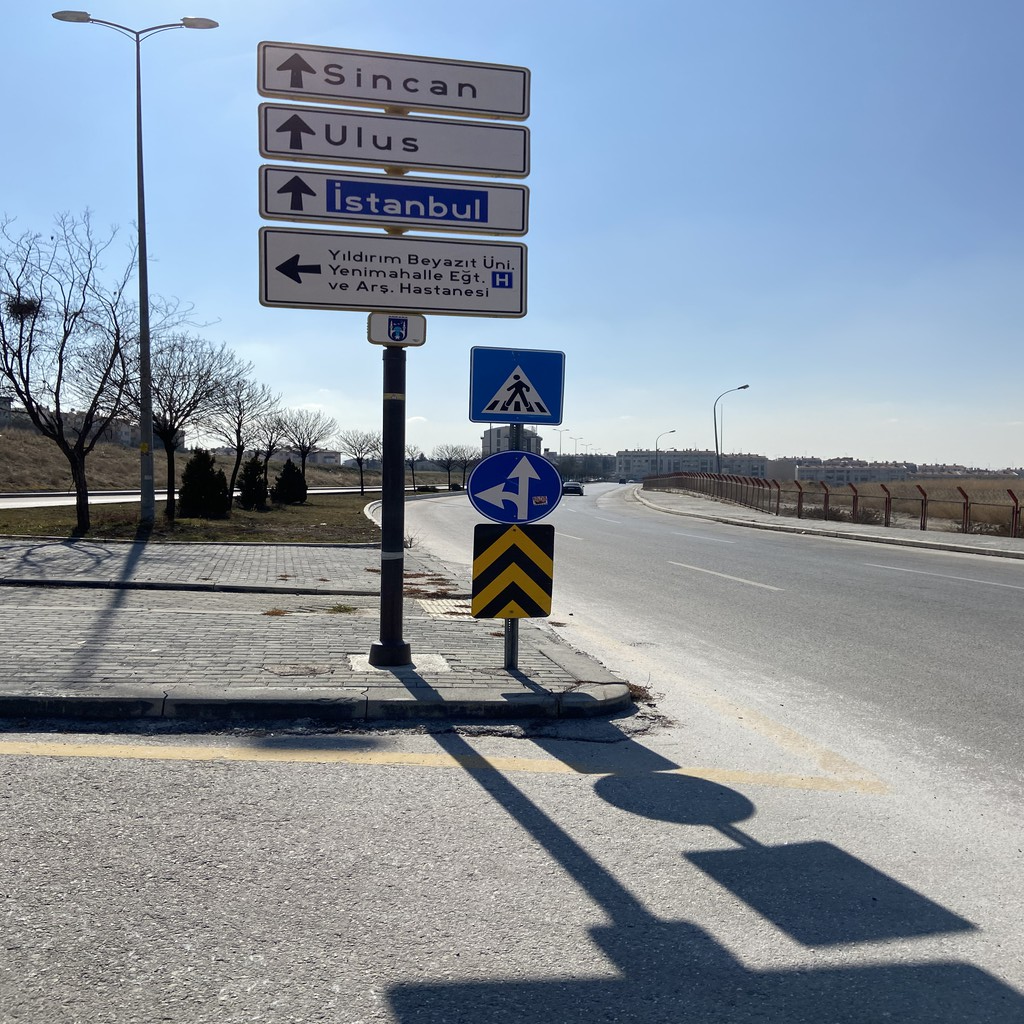Yaya Gecidi: (474, 340, 568, 426)
ileri ve Sola Mecburi Don: (464, 448, 559, 527)
